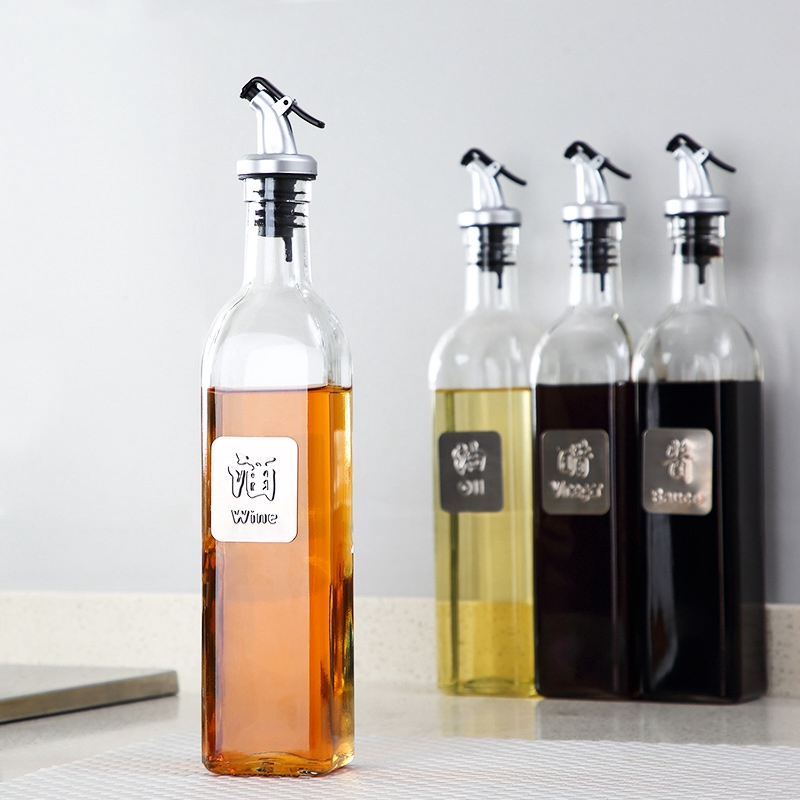glass_bottleww: (108, 78, 415, 782), (636, 48, 783, 778), (514, 57, 659, 744), (399, 96, 547, 737)
